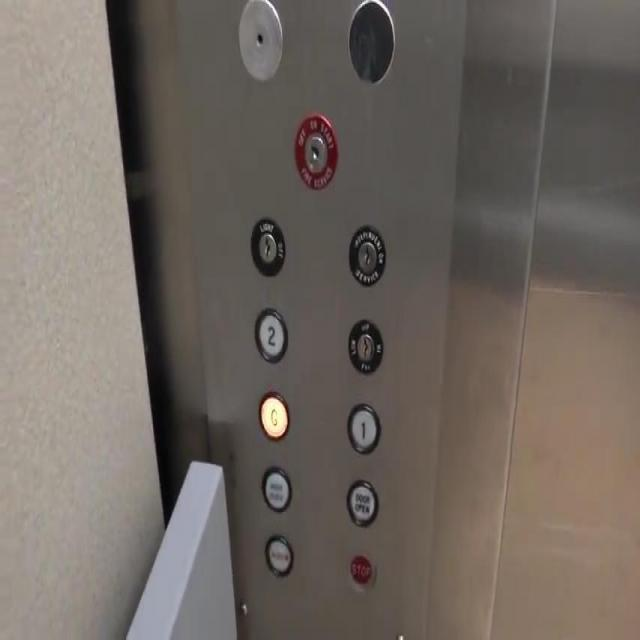1: (346, 400, 380, 455)
2: (253, 305, 288, 363)
G: (257, 389, 289, 440)
blur: (346, 477, 378, 527)
empty: (346, 0, 394, 84), (238, 0, 282, 83)
keyhole: (292, 111, 338, 188), (348, 223, 386, 284), (347, 316, 383, 373), (250, 216, 284, 276)
text_blur: (261, 465, 292, 512), (265, 535, 293, 577)
text_stop: (348, 550, 376, 594)
